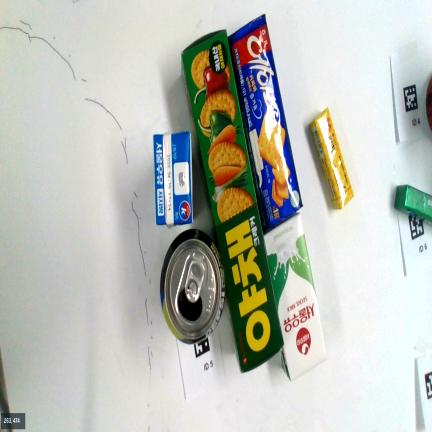can_pepsi_zero: (160, 230, 225, 343)
cracker_ace: (229, 15, 302, 231)
cracker_vege: (182, 30, 283, 372)
gum_green: (395, 185, 432, 222)
gum_yellow: (310, 109, 353, 209)
milk_blue: (153, 132, 192, 227)
milk_green: (264, 213, 326, 380)
